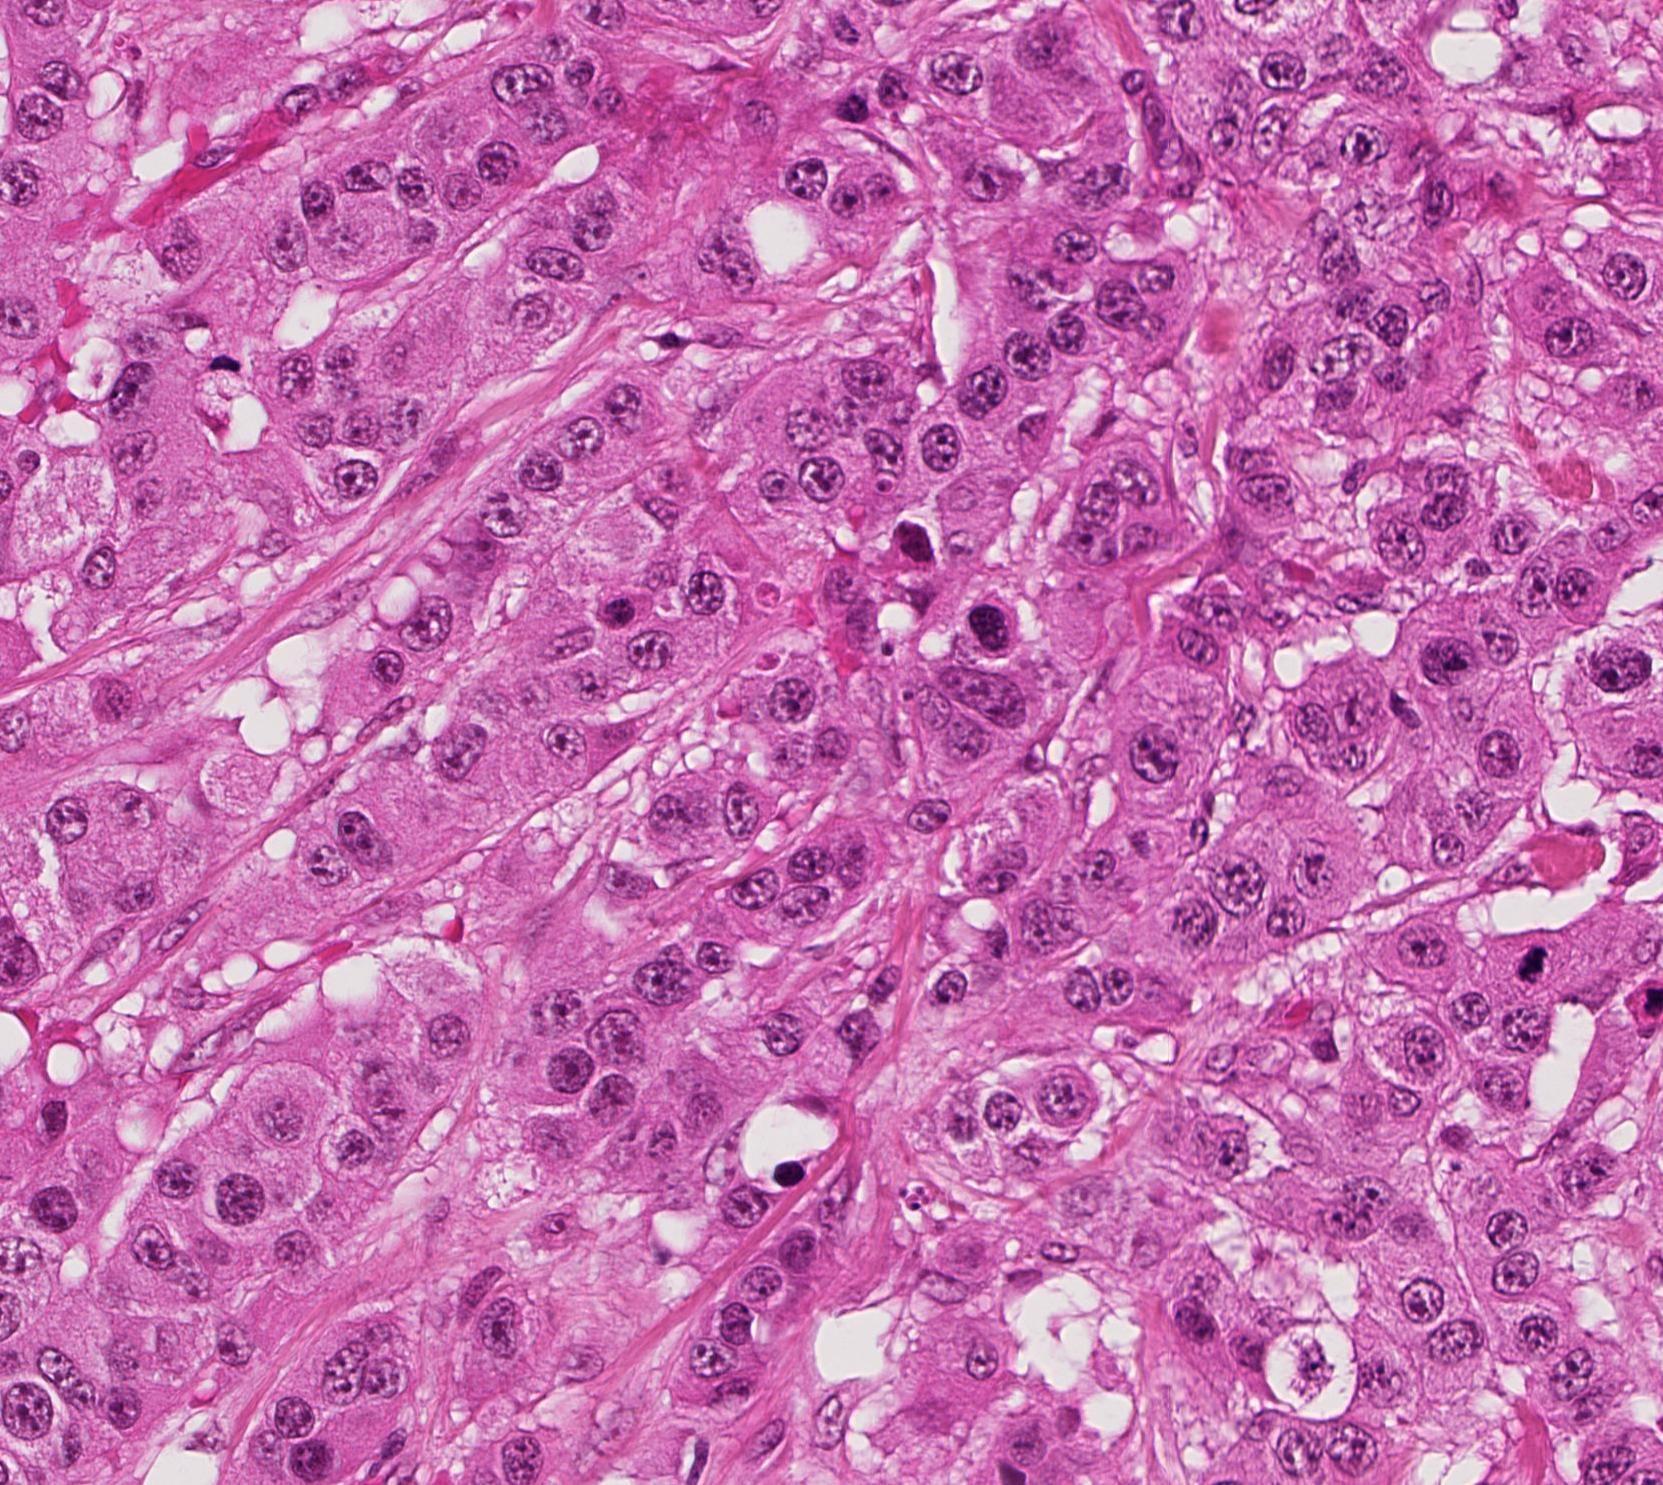mitosis: (1495, 925, 1555, 985)
